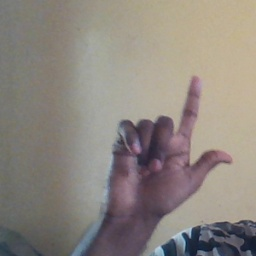L: (104, 74, 235, 220)
